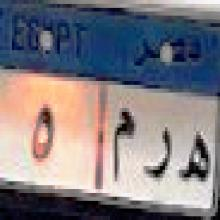5: (25, 103, 60, 165)
haa: (178, 119, 209, 191)
meem: (111, 104, 136, 187)
raa: (143, 119, 173, 185)
